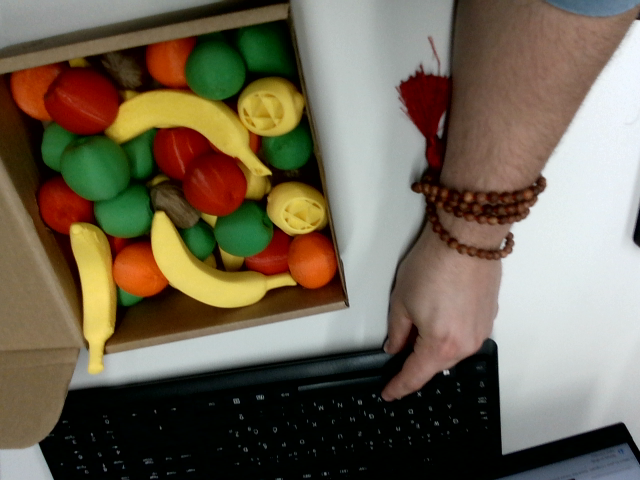banana: (128, 208, 298, 335), (103, 76, 284, 177), (67, 218, 127, 374)
green apple: (50, 123, 141, 214), (206, 194, 282, 269), (89, 178, 161, 248), (187, 40, 244, 97)
lemon: (237, 76, 306, 137), (267, 181, 326, 235)
orange: (103, 236, 170, 307), (7, 60, 68, 120), (141, 30, 195, 89), (289, 232, 335, 286)
red apple: (36, 56, 130, 146), (25, 171, 103, 247), (140, 111, 214, 184), (179, 150, 250, 218)
walnut: (143, 174, 203, 238)
